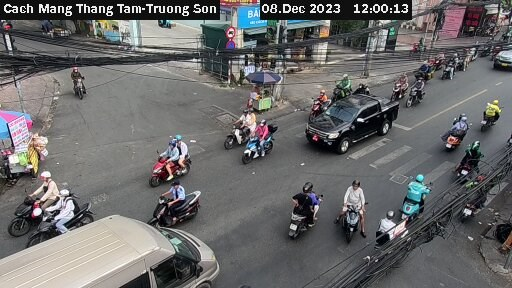car: (2, 212, 216, 288), (305, 98, 401, 153), (496, 44, 512, 73)
motorbike: (136, 185, 222, 223), (138, 138, 201, 179), (275, 185, 325, 233), (9, 180, 70, 219), (231, 123, 297, 159), (335, 182, 374, 234), (371, 206, 408, 253), (403, 176, 442, 216), (232, 107, 267, 142), (478, 98, 512, 134), (449, 144, 481, 180), (441, 104, 471, 142), (63, 68, 99, 99), (373, 70, 406, 98), (402, 82, 431, 106), (326, 73, 354, 97), (440, 58, 463, 81)
